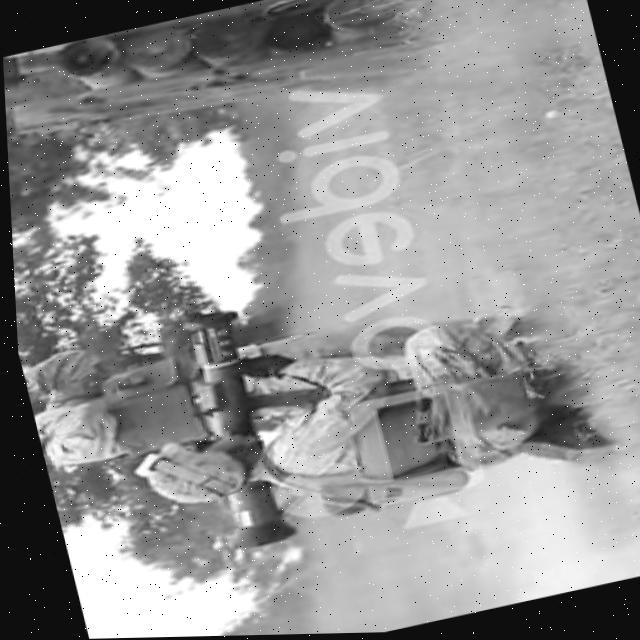rocket: (170, 307, 288, 555)
